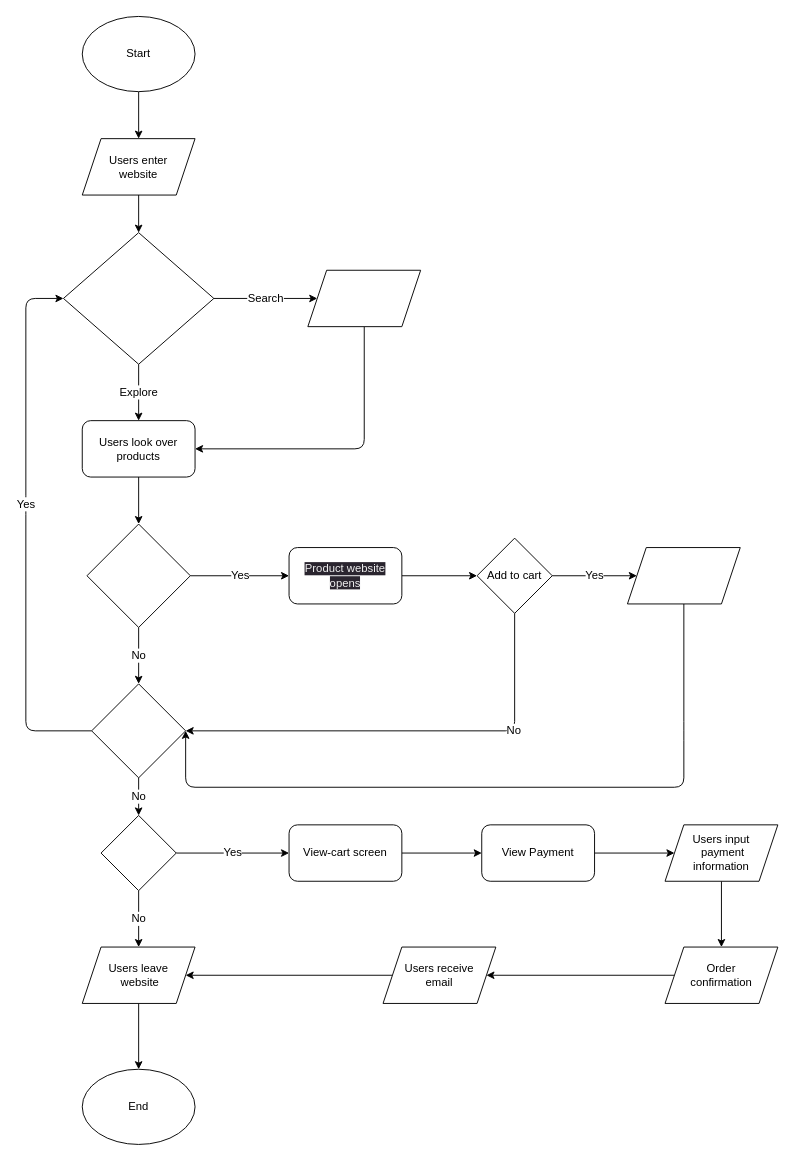
The diagram is 794 pixels wide and 1161 high, and some of its shapes have lost their labels. The centre of each missing label's shape, as x and y in pixels:
"Added-to-cart confirmation" belongs at pixel 683 575.
"Checkout" belongs at pixel 138 853.
"Continue Shopping" belongs at pixel 138 730.
"Search for products or explore on homepage" belongs at pixel 138 298.
"Users input to website" belongs at pixel 364 298.
"View a specific product" belongs at pixel 138 575.
